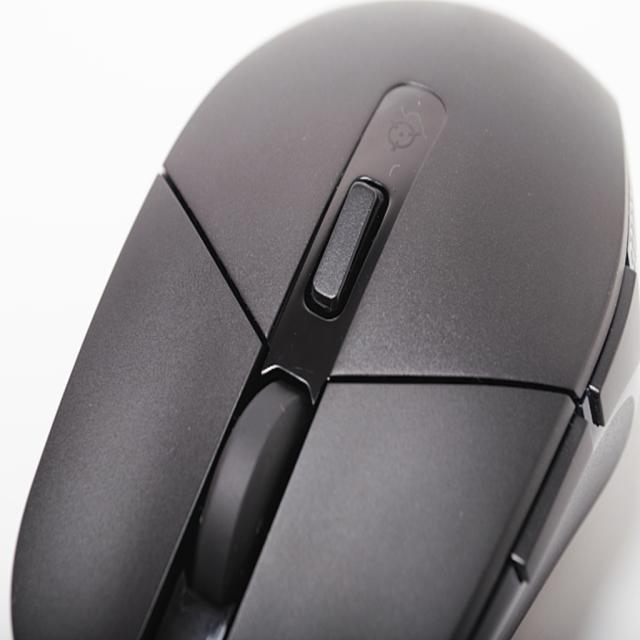Computer-mouse: (8, 0, 638, 639), (12, 0, 637, 639)
